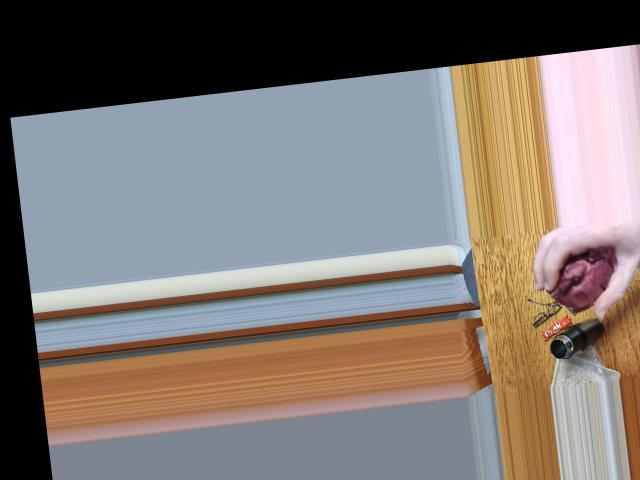onion: (552, 247, 620, 299)
